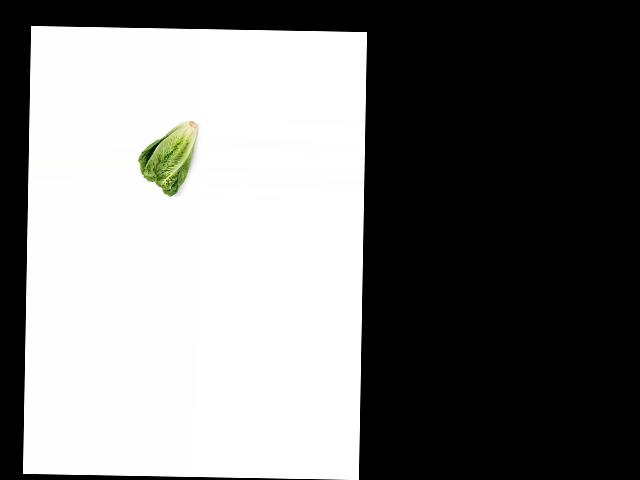lettuce: (138, 115, 200, 196)
